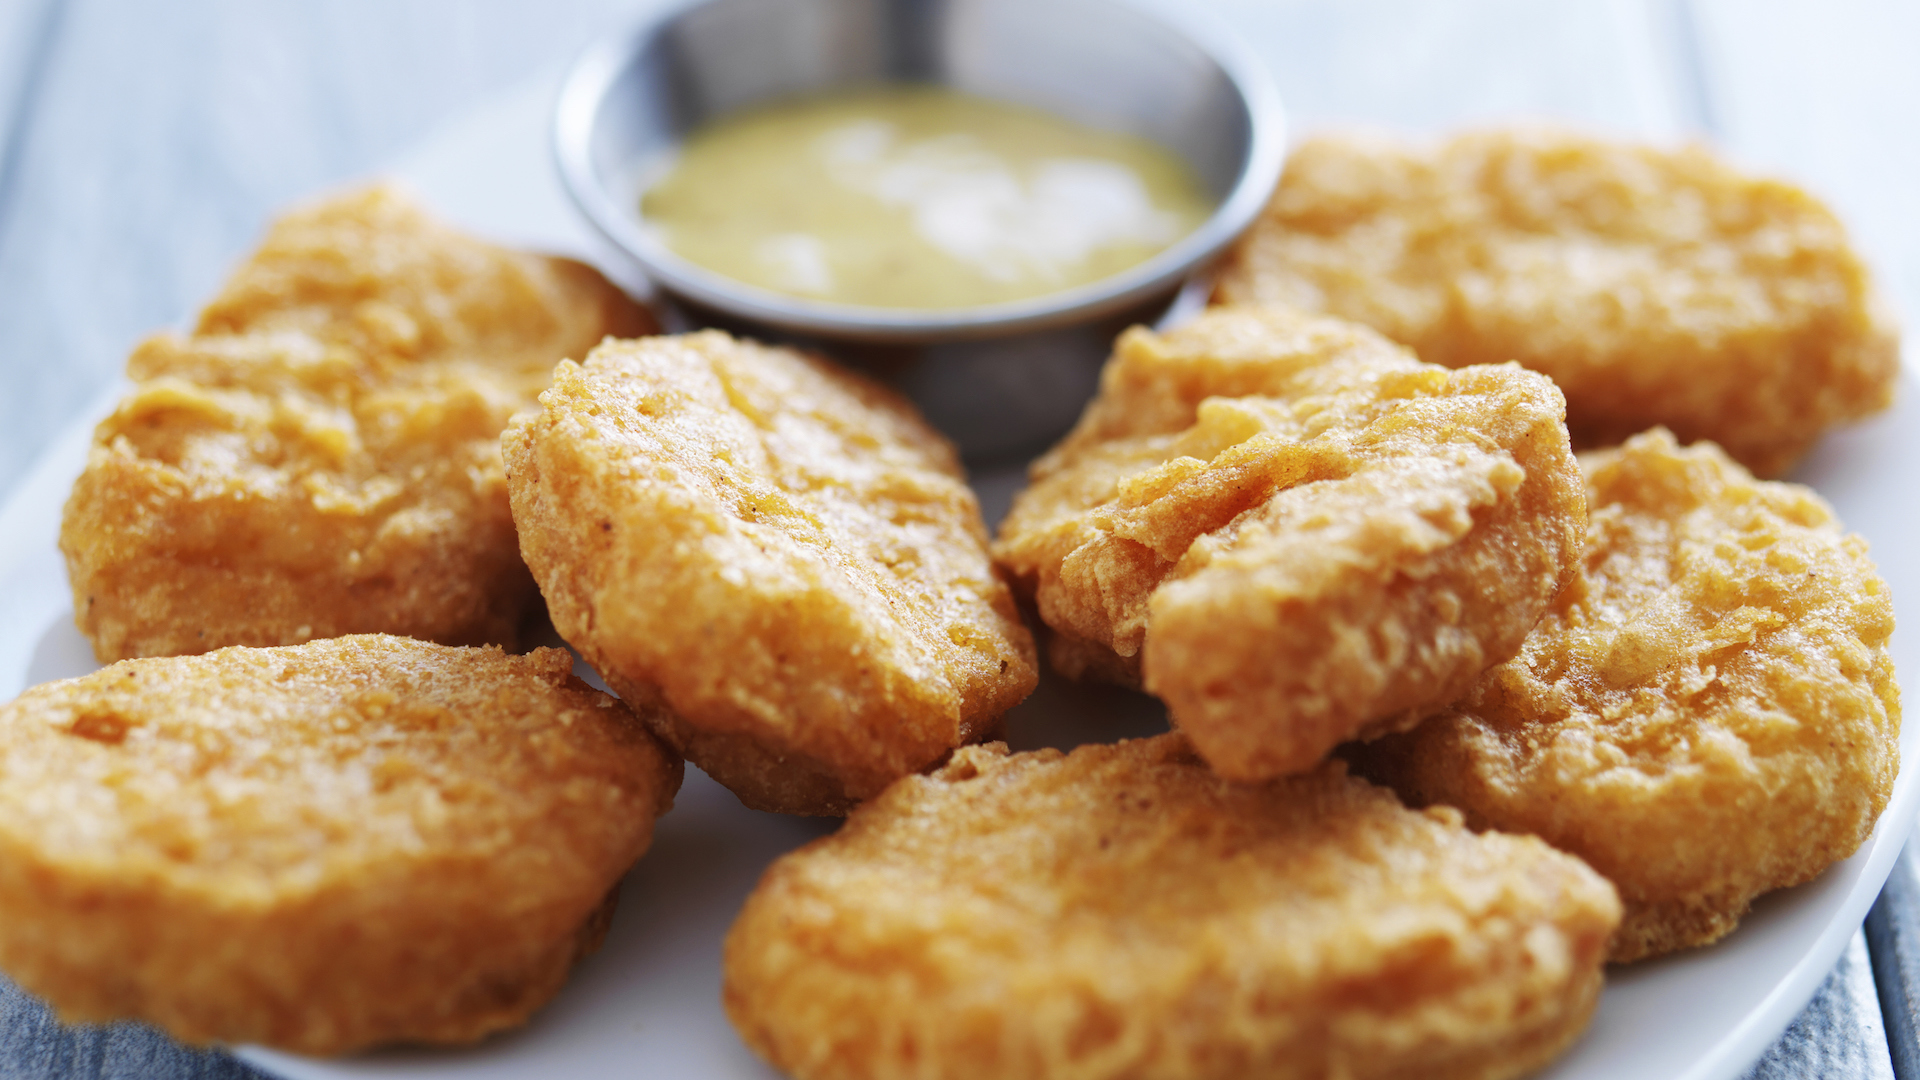chicken_nuggets: (709, 742, 1582, 1055), (32, 659, 688, 1009), (1043, 324, 1557, 738), (545, 327, 1022, 761), (1229, 138, 1896, 440), (1443, 455, 1842, 918), (131, 207, 566, 604)
